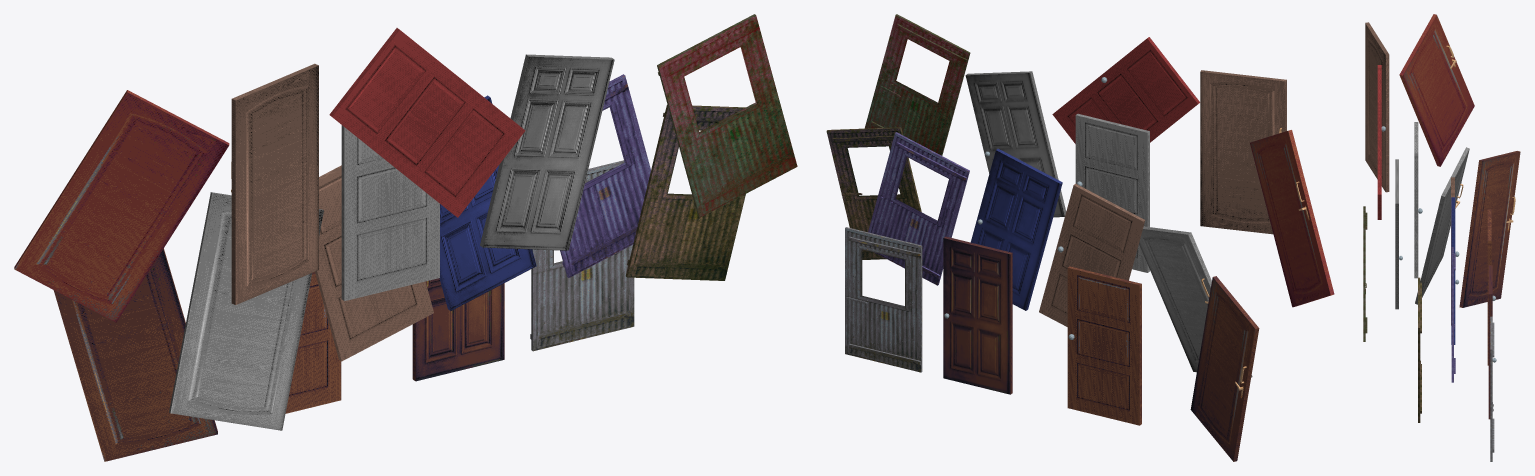
The model's file is psx doors embed.fbx.
The picture shows the model from 3 angles, left to right: view 1: azimuth 30°, elevation 25°; view 2: azimuth 150°, elevation 25°; view 3: azimuth 270°, elevation 25°; orthographic projection. The views are drawn at different scales.
Parts seen in each view (by area): view 1: polySurface35, polySurface40, polySurface43, polySurface38, pSphere6, polySurface39, pCube23, polySurface41, pCube22, pCube24, pCube21, polySurface42 (+3 smaller); view 2: polySurface38, polySurface32, pCube25, pCube24, pSphere7, polySurface39, polySurface35, polySurface43, polySurface42, pCube23, pCube21, pSphere6 (+3 smaller); view 3: polySurface35, polySurface39, polySurface38, polySurface40, polySurface41, polySurface43, pSphere6, pCube25, pCube24, pCube22, pSphere7, polySurface32 (+3 smaller).
Part boxes in pixels (<box>): polySurface35: <box>14,90,229,322</box>; polySurface40: <box>169,192,323,430</box>; polySurface43: <box>329,28,525,217</box>; polySurface38: <box>231,63,318,304</box>; pSphere6: <box>480,54,614,250</box>; polySurface39: <box>53,248,217,461</box>; pCube23: <box>657,14,797,217</box>; polySurface41: <box>341,125,439,300</box>; pCube22: <box>625,104,745,280</box>; pCube24: <box>530,160,634,351</box>; pCube21: <box>560,74,650,277</box>; polySurface42: <box>315,165,433,361</box>; polySurface38: <box>1200,70,1286,234</box>; polySurface32: <box>1067,266,1141,425</box>; pCube25: <box>943,236,1012,394</box>; pCube24: <box>845,227,922,372</box>; pSphere7: <box>970,148,1062,310</box>; polySurface39: <box>1190,276,1259,461</box>; polySurface35: <box>1250,130,1334,307</box>; polySurface43: <box>1052,37,1199,143</box>; polySurface42: <box>1039,183,1145,326</box>; pCube23: <box>864,14,970,155</box>; pCube21: <box>868,132,969,285</box>; pSphere6: <box>965,71,1066,217</box>; polySurface35: <box>1399,14,1474,166</box>; polySurface39: <box>1459,151,1520,307</box>; polySurface38: <box>1365,22,1389,192</box>; polySurface40: <box>1415,147,1469,304</box>; polySurface41: <box>1414,122,1422,278</box>; polySurface43: <box>1377,65,1385,219</box>; pSphere6: <box>1395,159,1402,309</box>; pCube25: <box>1488,265,1496,419</box>; pCube24: <box>1490,316,1494,461</box>; pCube22: <box>1418,277,1421,422</box>; pSphere7: <box>1451,197,1458,344</box>; polySurface32: <box>1487,209,1495,365</box>.
Size of the model in its own units: 16.6 by 9.96 by 4.73.
18 materials, 18 textured.
